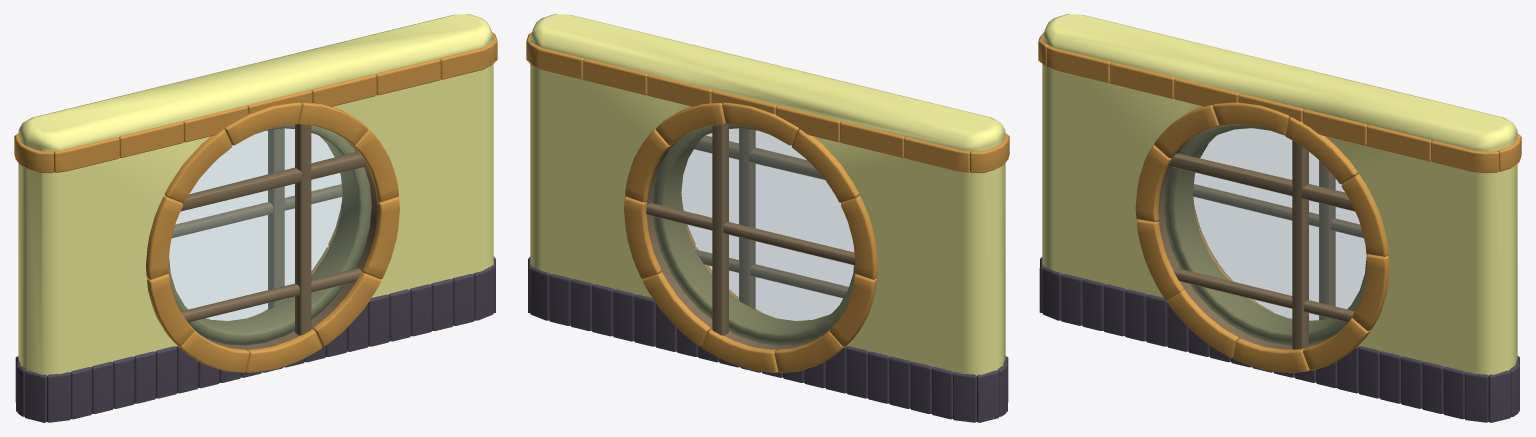
File: Env2_Window.fbx
3 views of the same model, side by side, from view 1: azimuth 30°, elevation 25°; view 2: azimuth 150°, elevation 25°; view 3: azimuth 330°, elevation 25° (orthographic).
Visible parts, largest first — view 1: Env2_Window; view 2: Env2_Window; view 3: Env2_Window.
Part boxes in pixels (bbox=[...]): Env2_Window: bbox=[14, 14, 497, 422]; Env2_Window: bbox=[526, 14, 1009, 422]; Env2_Window: bbox=[1038, 14, 1521, 422].
Bounding box in the file's own units: 3.38 × 0.4931 × 1.95.
